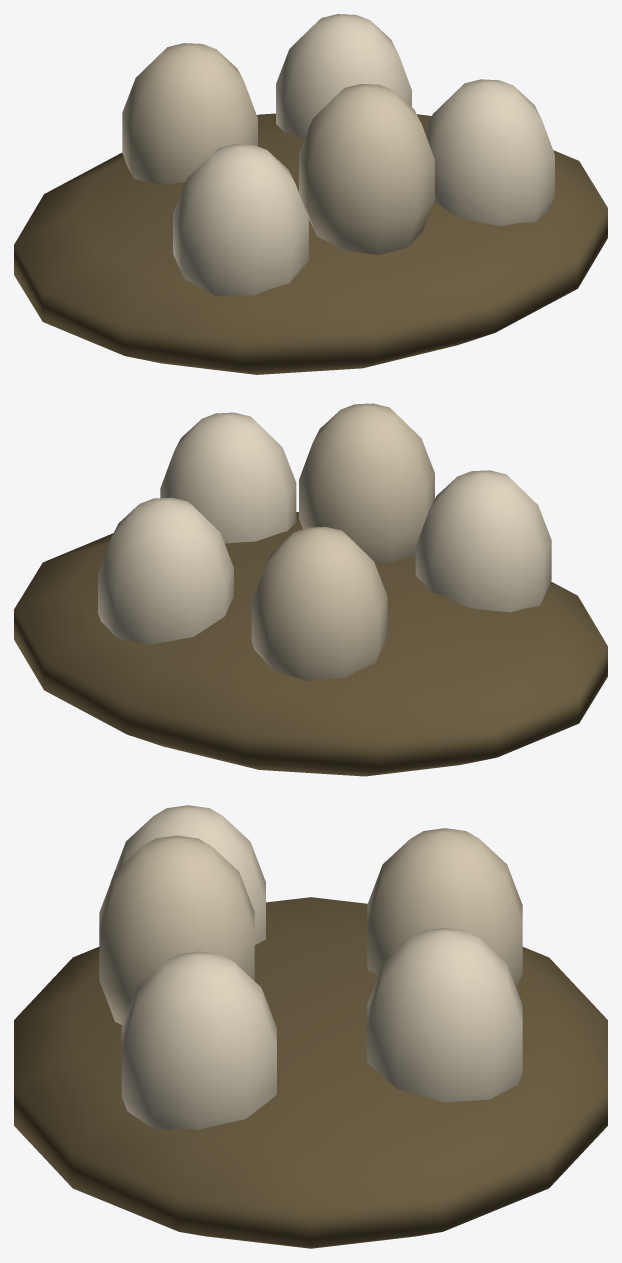
The model's file is litter.glb.
3 renders of one model, top to bottom at view 1: azimuth 30°, elevation 25°; view 2: azimuth 150°, elevation 25°; view 3: azimuth 270°, elevation 25°, orthographic. The views are drawn at different scales.
Parts seen in each view (by area): view 1: litter; view 2: litter; view 3: litter.
Boxes of the visible parts, x1,y1,x2,y2 form: litter: (14, 14, 607, 374); litter: (14, 403, 607, 776); litter: (14, 805, 607, 1248).
Bounding box in the file's own units: 0.6629 × 0.31 × 0.5323.
